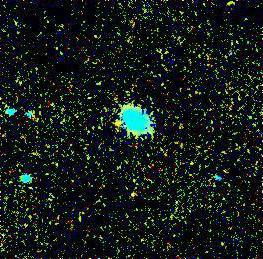star: (101, 107, 131, 137)
